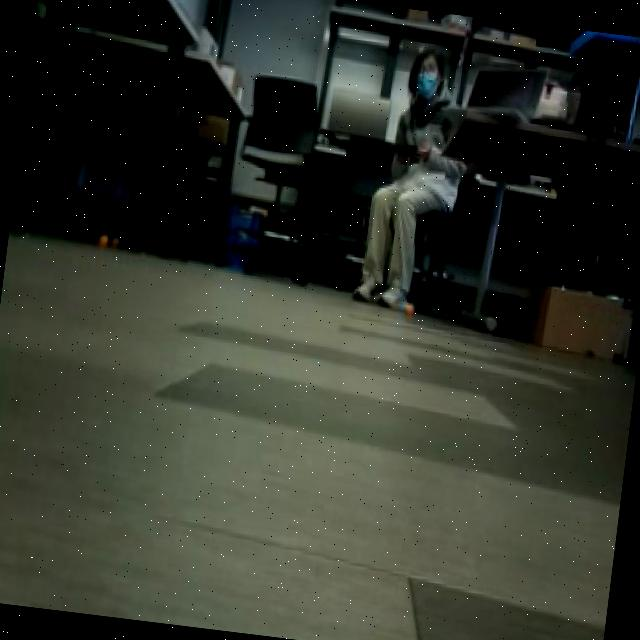ping-pong-ball: (95, 228, 112, 254), (402, 298, 418, 316)
